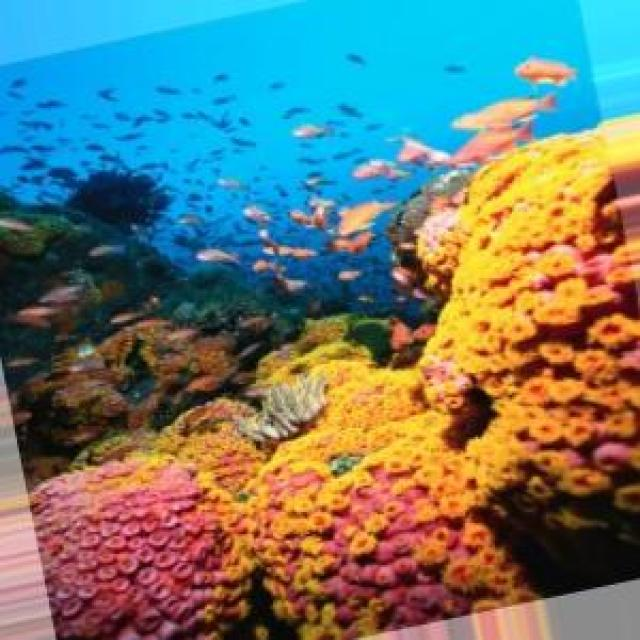healthy coral: (34, 115, 640, 637), (421, 120, 640, 597), (156, 398, 266, 493)
